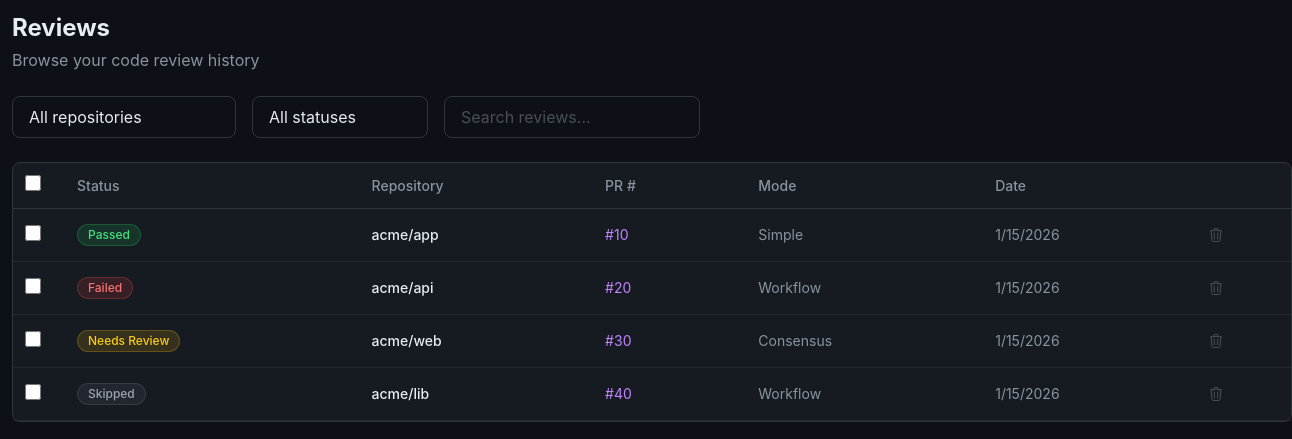
Reviews — search filter › filters reviews by PR number
This screenshot has width=1292, height=439.
Type "30" into the field with placeholder "Search reviews...".
click(572, 117); type("30")  # box [444, 96, 700, 138]
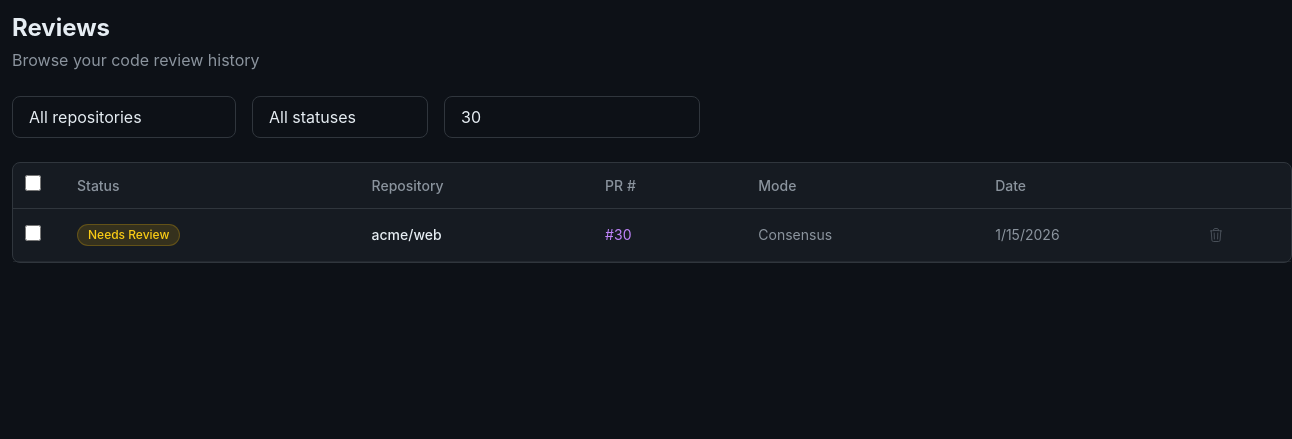
Check: the text "acme/web" is shown, box [348, 208, 581, 262]
Check: the text "acme/app" is gone
